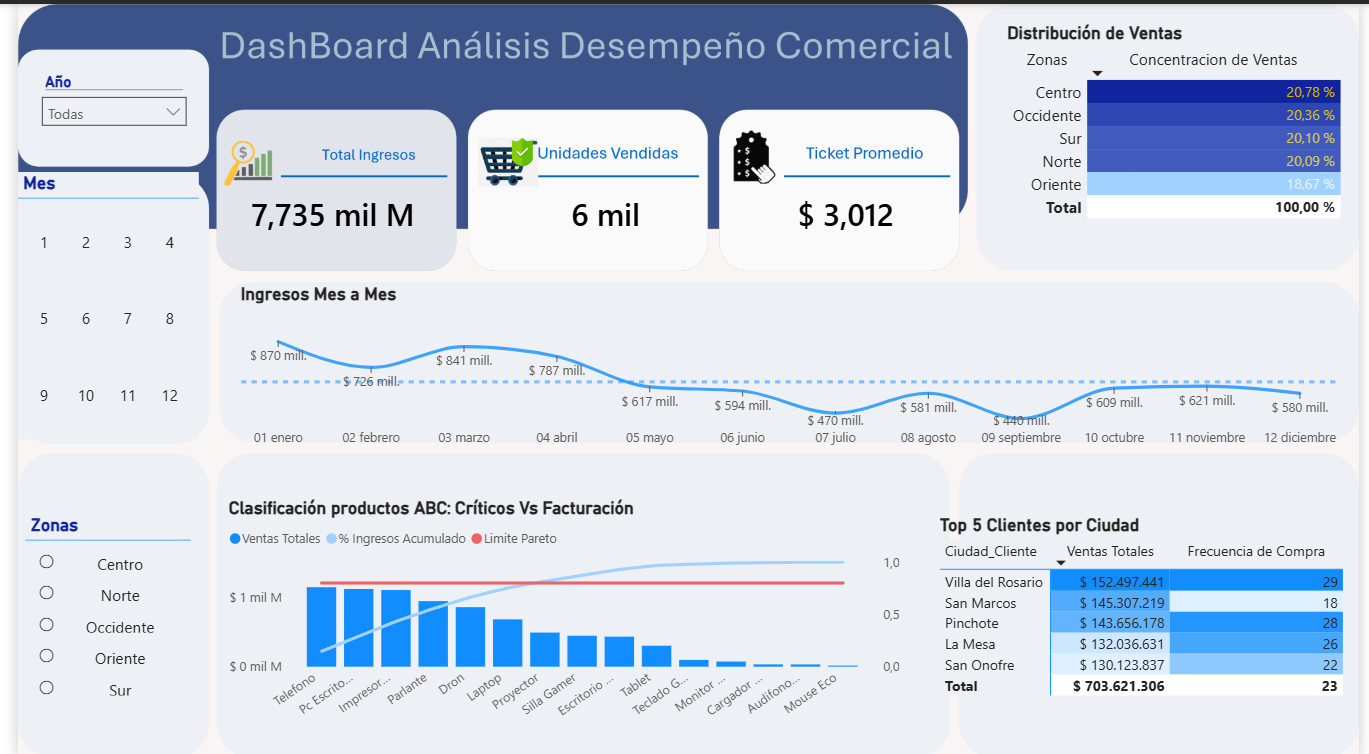

What the dashboard file says about the page in this screenshot:
{"tool":"powerbi","page":{"name":"Análisis Estratégico de Ventas","canvas":[1280,720],"ordinal":1},"visuals":[{"type":"advancedSlicerVisual","fields":{"Values":["dim_Calendario.Mes"]},"box":[0,161,172.4,255.4],"z":0},{"type":"listSlicer","fields":{"Values":["dim_Tiendas.Zonas"]},"box":[6.5,486.3,157.8,218],"z":1000},{"type":"slicer","fields":{"Values":["dim_Calendario.Año"]},"box":[13,60.2,157.8,86.2],"z":2000},{"type":"cardVisual","fields":{"Data":["Medidas.Ventas Totales"]},"box":[170.8,161,260.2,76.4],"z":3000},{"type":"cardVisual","fields":{"Data":["Medidas.Volumen de Venta"]},"box":[431,161,260.2,76.4],"z":4000},{"type":"cardVisual","fields":{"Data":["Medidas.Ticket Promedio"]},"box":[660.4,161,260.2,76.4],"z":5000},{"type":"lineStackedColumnComboChart","title":"Clasificación productos ABC: Críticos Vs Facturación ","fields":{"Category":["dim_Productos.Desc_Producto"],"Y2":["Medidas.% Ingresos Acumulado","Medidas.Limite Pareto"],"Y":["Medidas.Ventas Totales"]},"box":[196.8,471.7,650.6,221.2],"z":6000},{"type":"lineChart","title":"Ingresos Mes a Mes","fields":{"Y":["Medidas.Ventas Totales"],"Category":["dim_Calendario.Numero Mes"]},"box":[208.2,266.8,1060.5,165.9],"z":7000},{"type":"pivotTable","title":"Distribución de Ventas","fields":{"Values":["Medidas.% Concentracion de Ventas"],"Rows":["dim_Tiendas.Zonas"]},"box":[940.1,17.9,328.6,203.3],"z":8000},{"type":"pivotTable","title":"Top 5 Clientes por Ciudad","fields":{"Rows":["dim_clientes.Ciudad_Cliente","dim_clientes.Nombre_Cliente"],"Values":["Medidas.Ventas Totales","Medidas.Frecuencia de Compra"]},"box":[875.1,486.3,405,221.2],"z":10000}]}

Visuals, with their boxes in screenshot pixels (x1, y1, x2, y2), scaled from the page's 1280x720 canvas onto the 1369x754 screenshot:
advancedSlicerVisual - dim_Calendario.Mes: <region>0, 169, 184, 436</region>
listSlicer - dim_Tiendas.Zonas: <region>7, 509, 176, 738</region>
slicer - dim_Calendario.Año: <region>14, 63, 183, 153</region>
cardVisual - Medidas.Ventas Totales: <region>183, 169, 461, 249</region>
cardVisual - Medidas.Volumen de Venta: <region>461, 169, 739, 249</region>
cardVisual - Medidas.Ticket Promedio: <region>706, 169, 985, 249</region>
"Clasificación productos ABC: Críticos Vs Facturación " lineStackedColumnComboChart: <region>210, 494, 906, 726</region>
"Ingresos Mes a Mes" lineChart: <region>223, 279, 1357, 453</region>
"Distribución de Ventas" pivotTable: <region>1005, 19, 1357, 232</region>
"Top 5 Clientes por Ciudad" pivotTable: <region>936, 509, 1368, 741</region>
